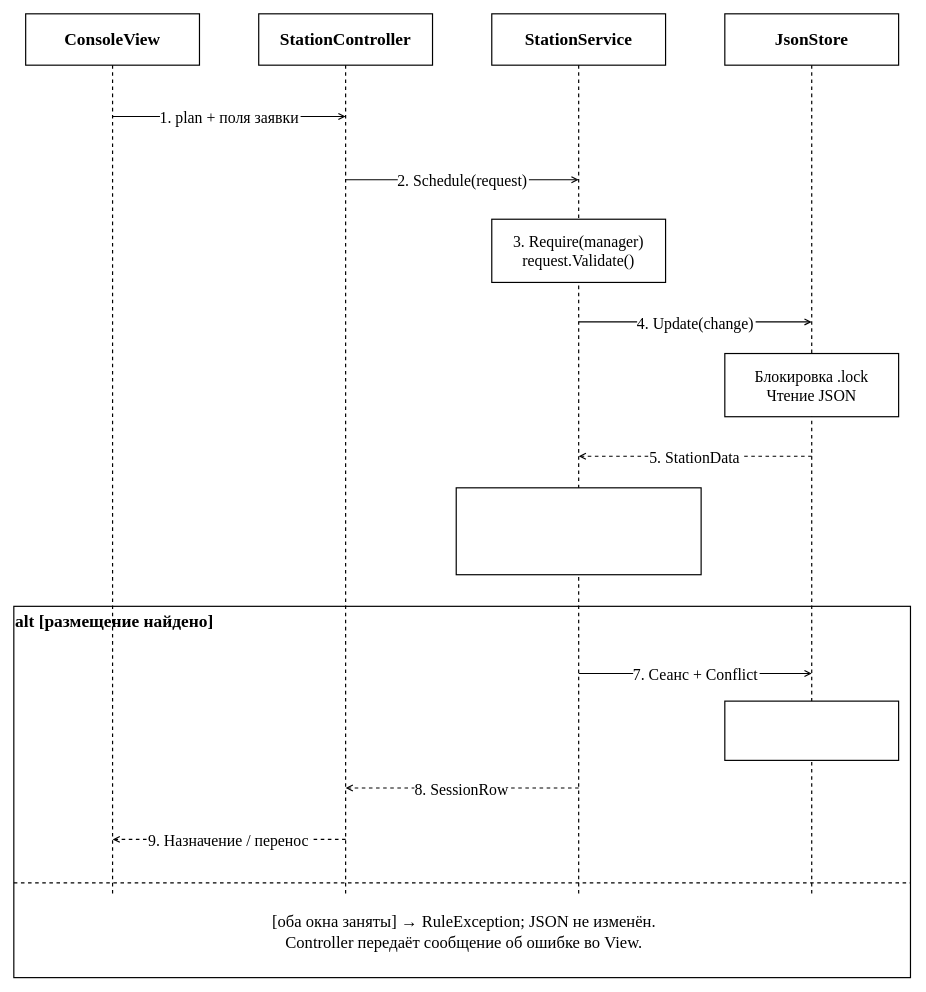
This 926x992 diagram has some shape labels left out. Here are the shapes that lost their labels. From the top down, the centre of each, then its label:
the point at 578,531: 6. Найти свободную антенну. Или перенести меньший приоритет: Session.Move().
the point at 811,730: JSON.tmp → JSON Снять блокировку
